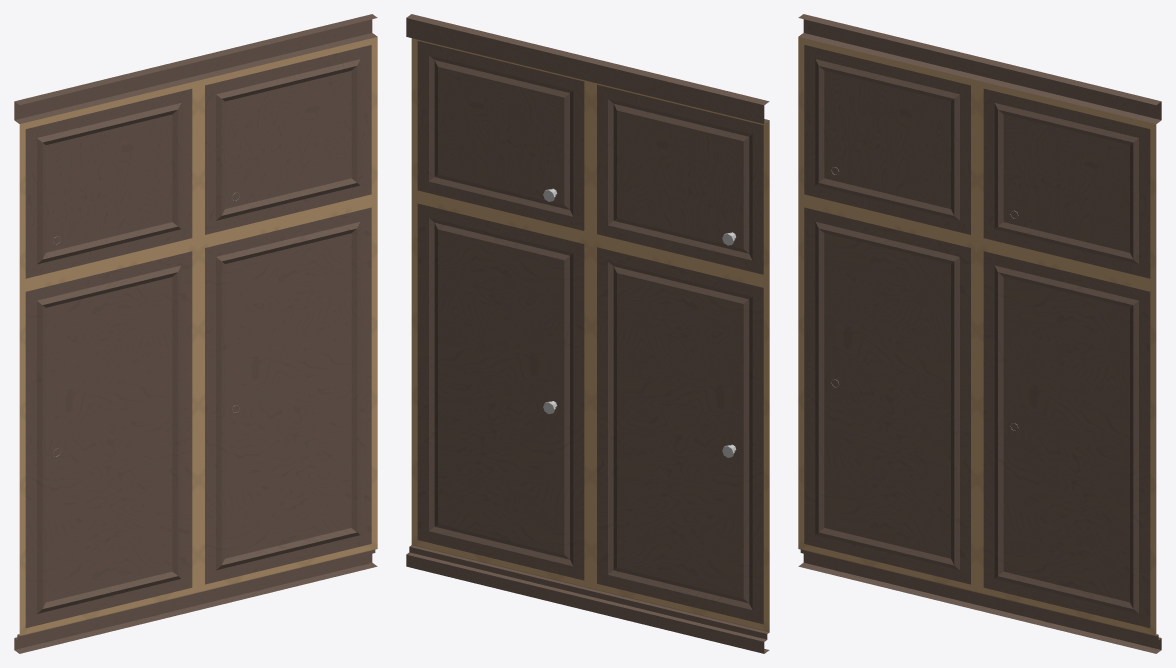
Rendered from Wall Room Integrated Wardrobes Feigned 1.fbx.
3 renders of one model, left to right at view 1: azimuth 30°, elevation 25°; view 2: azimuth 150°, elevation 25°; view 3: azimuth 330°, elevation 25°, orthographic.
Visible parts, largest first — view 1: Wall Room Integrated Wardrobes Feigned.001; view 2: Wall Room Integrated Wardrobes Feigned.001; view 3: Wall Room Integrated Wardrobes Feigned.001.
Boxes of the visible parts, box(x1,y1,x2,y2) form: Wall Room Integrated Wardrobes Feigned.001: box(14, 14, 377, 653); Wall Room Integrated Wardrobes Feigned.001: box(406, 14, 769, 653); Wall Room Integrated Wardrobes Feigned.001: box(798, 14, 1161, 653).
Bounding box in the file's own units: 4 × 5.85 × 0.1281.
